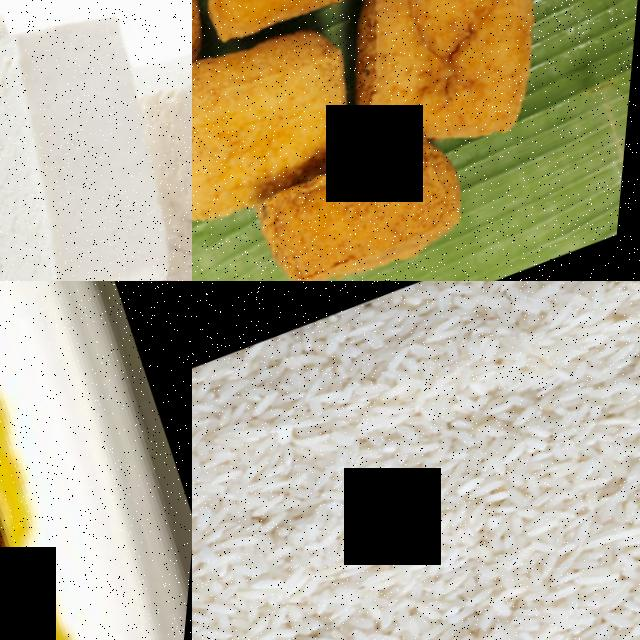tofu: (0, 0, 192, 281), (192, 7, 391, 238), (321, 0, 576, 155), (258, 120, 489, 281), (135, 0, 192, 281)
white rice: (192, 281, 640, 640)
